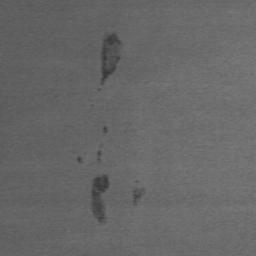Iron scale compression: (101, 33, 122, 87), (92, 174, 109, 221), (134, 190, 142, 204), (96, 143, 100, 164), (102, 126, 108, 136), (77, 156, 83, 164)
